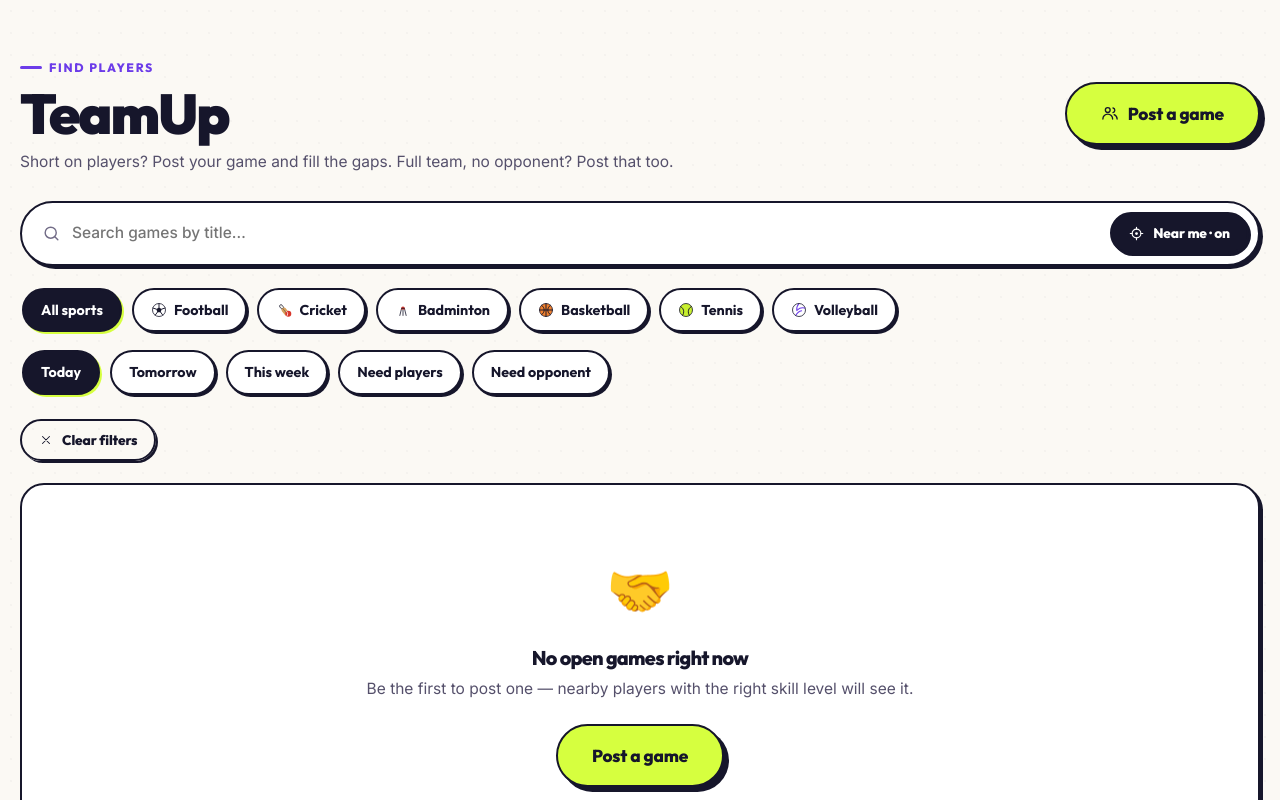
Test: TeamUp › a shared "near me" link counts, and clearing turns it off with everything else
Expected: the button "Near me · on" is shown, [1110,212,1249,254]
Step 1. Click the button "Clear filters" → (88, 440), box [20,419,156,461]
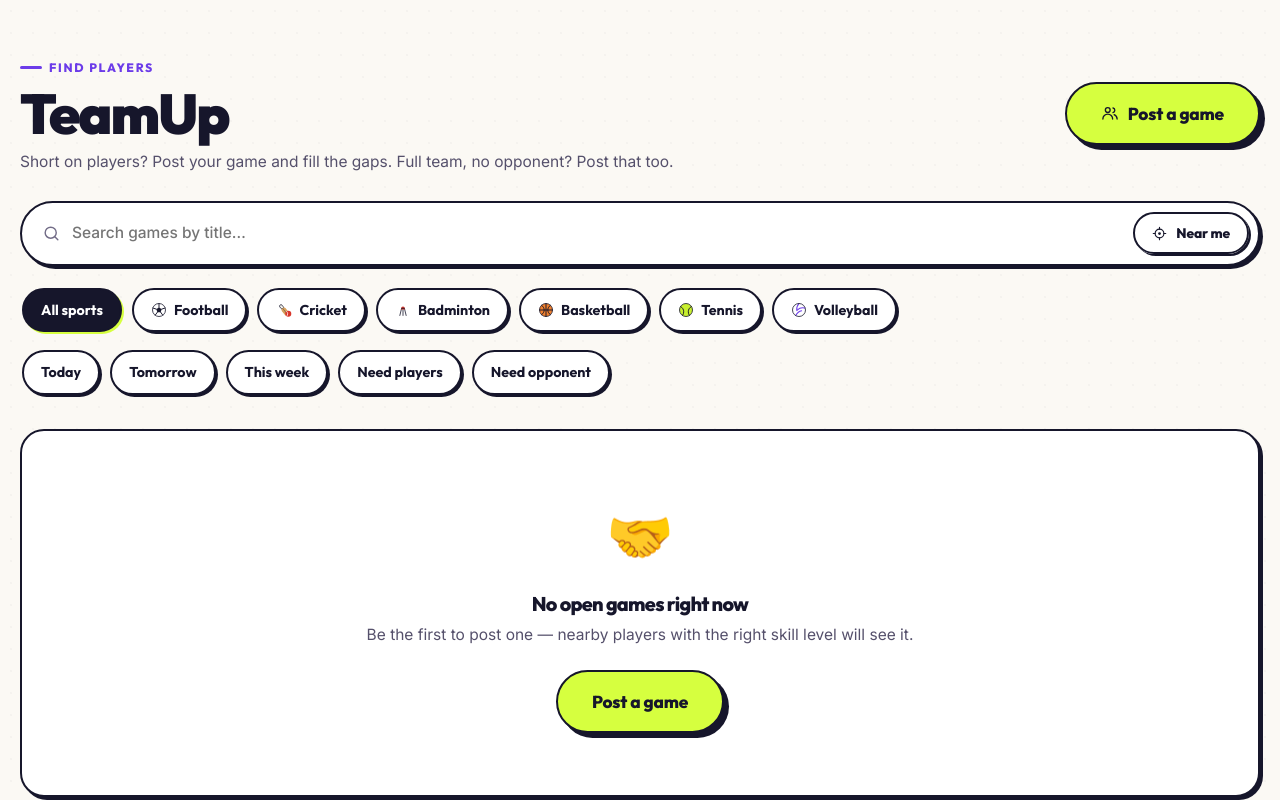
Expected: the button "Near me" is shown, [1133,212,1249,254]
